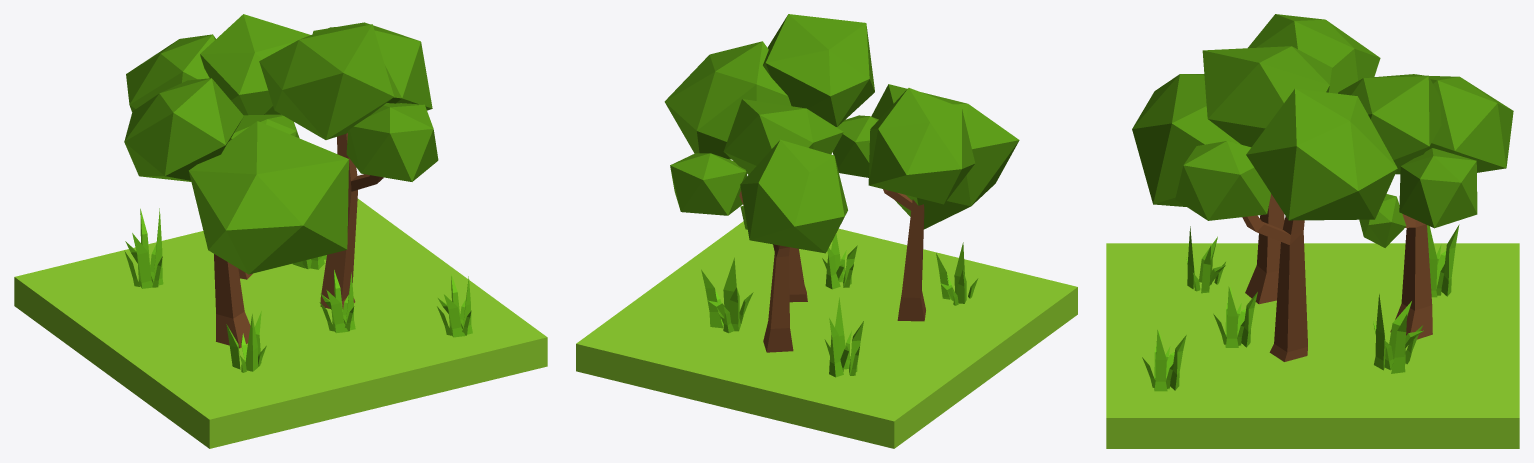
Rendered from ForestTile.fbx.
3 views of the same model, side by side, from view 1: azimuth 30°, elevation 25°; view 2: azimuth 150°, elevation 25°; view 3: azimuth 270°, elevation 25° (orthographic). The views are drawn at different scales.
Visible parts, largest first — view 1: Cube.005; view 2: Cube.005; view 3: Cube.005.
Boxes of the visible parts, x1,y1,x2,y2 form: Cube.005: (14, 14, 547, 448); Cube.005: (576, 14, 1077, 448); Cube.005: (1106, 14, 1519, 448).
Size of the model in its own units: 100 by 94.08 by 100.
